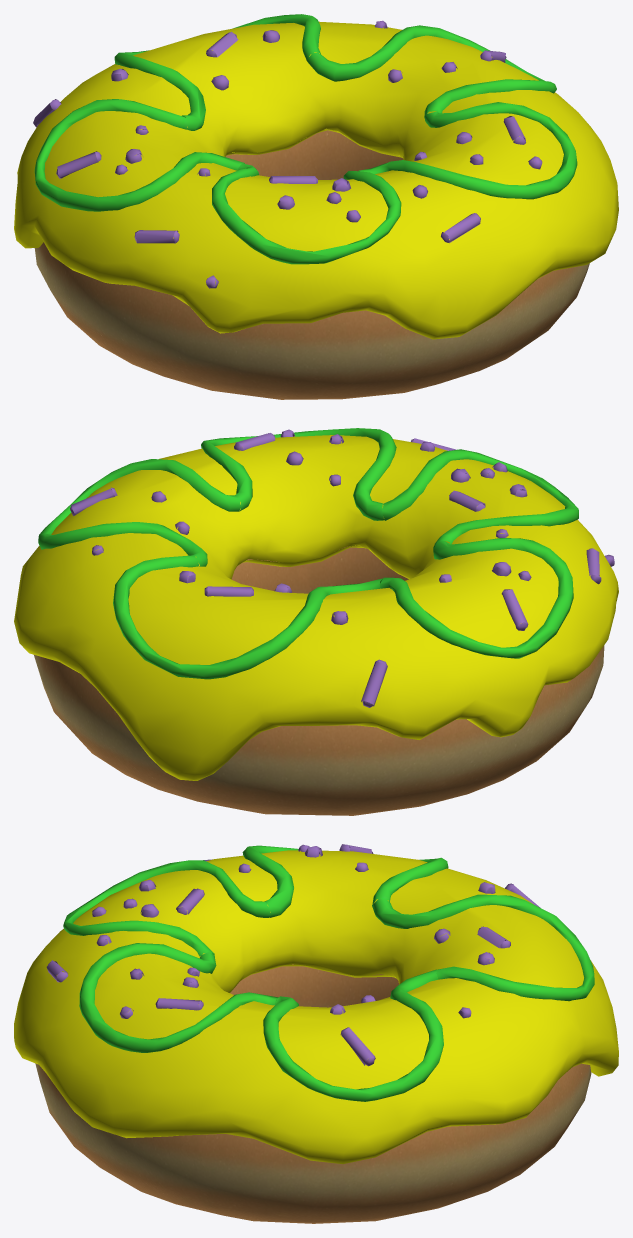
The model's file is donut7.glb.
3 views of the same model, one above another, from view 1: azimuth 30°, elevation 25°; view 2: azimuth 150°, elevation 25°; view 3: azimuth 270°, elevation 25° (orthographic). The views are drawn at different scales.
Parts seen in each view (by area): view 1: Donut7; view 2: Donut7; view 3: Donut7.
Boxes of the visible parts, bbox=[...] form: Donut7: bbox=[14, 14, 618, 399]; Donut7: bbox=[14, 428, 618, 815]; Donut7: bbox=[14, 844, 618, 1223].
Bounding box in the file's own units: 2.29 × 0.8656 × 2.32.
2 materials, 2 textured.
